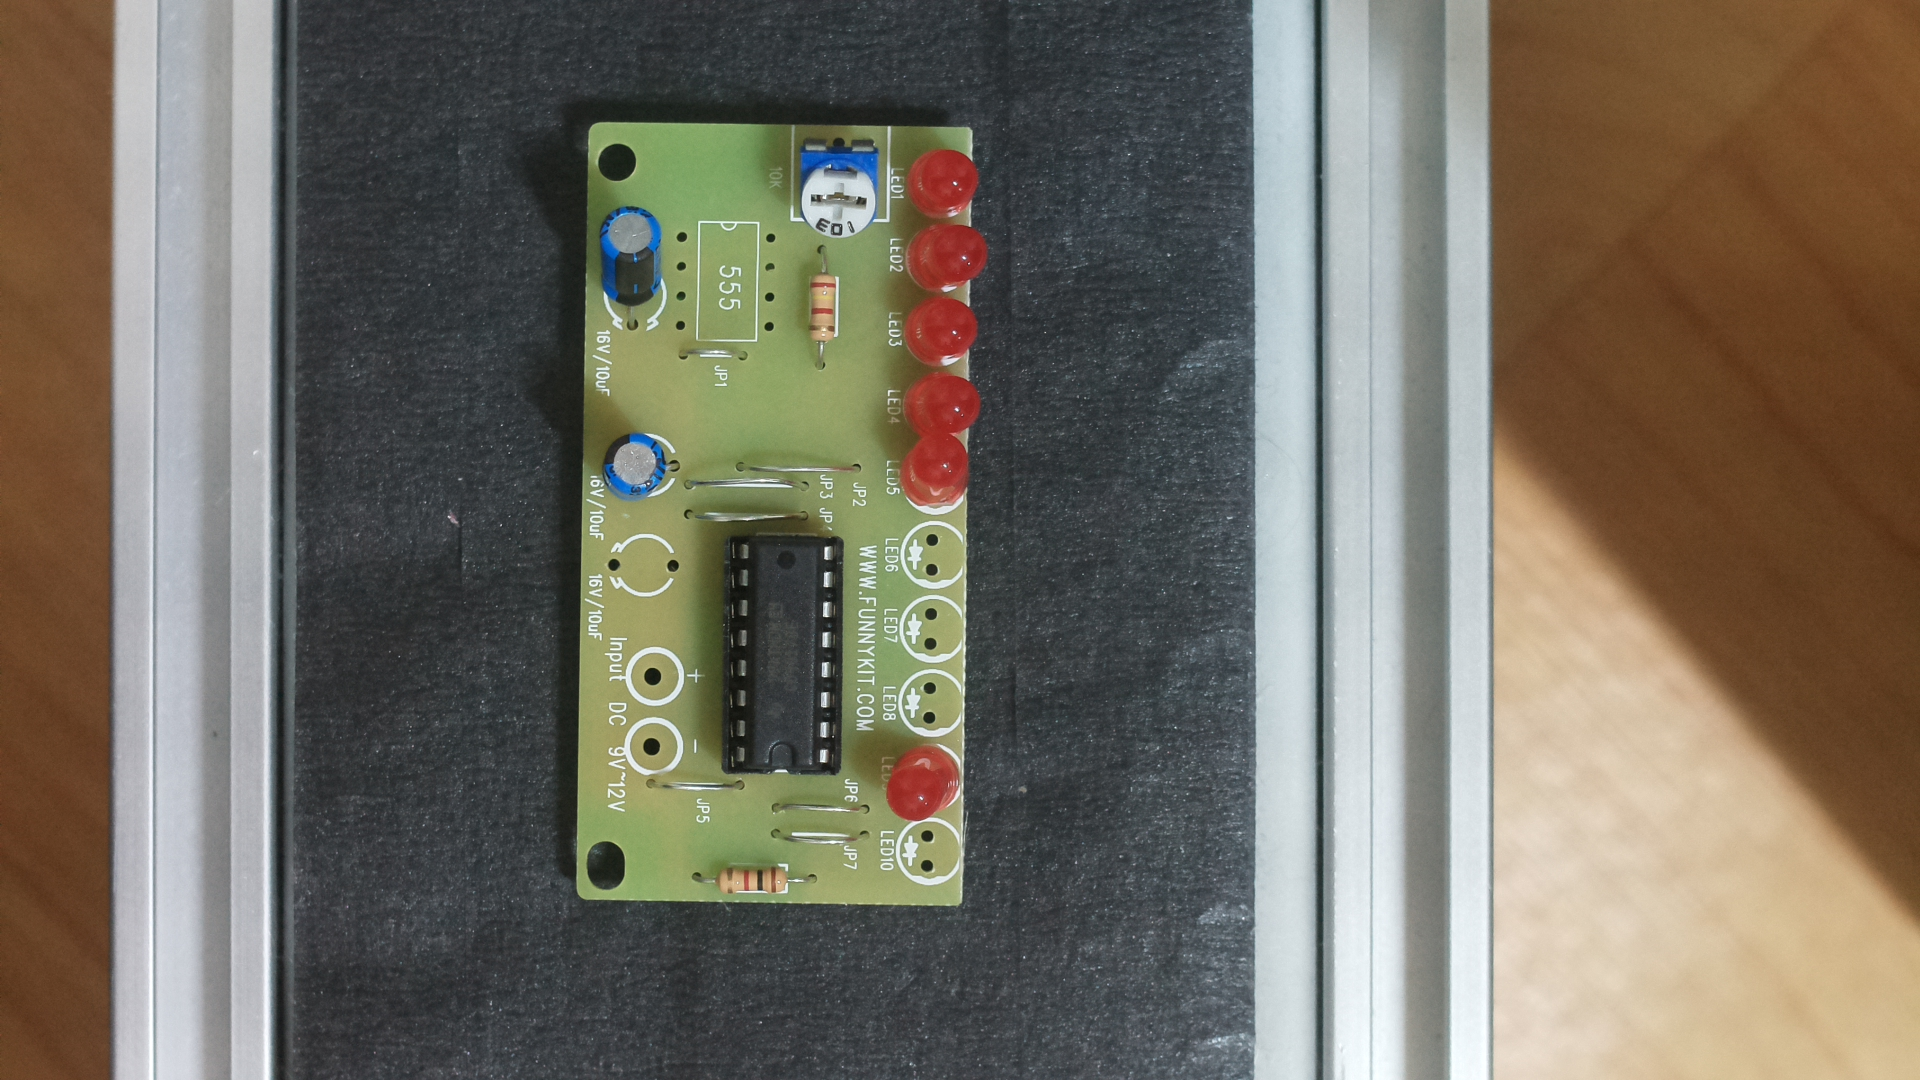B_Missing_part: (575, 105, 990, 919)
